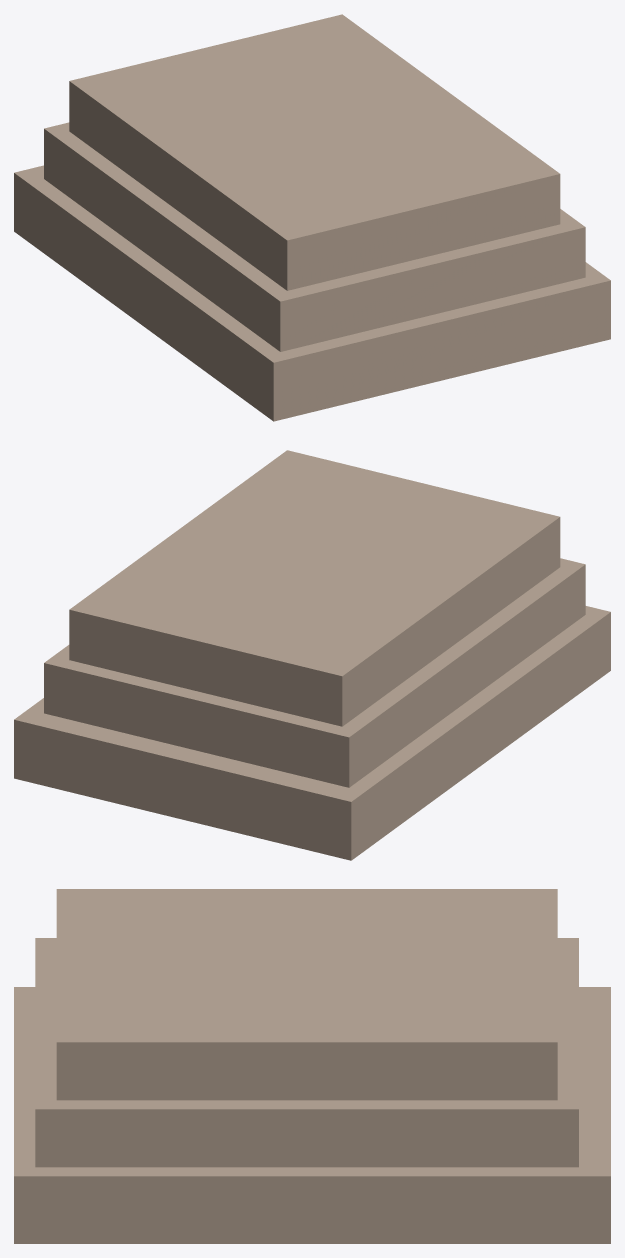
The model's file is books-stack.glb.
The picture shows the model from 3 angles, top to bottom: view 1: azimuth 30°, elevation 25°; view 2: azimuth 150°, elevation 25°; view 3: azimuth 270°, elevation 25°; orthographic projection. The views are drawn at different scales.
Parts seen in each view (by area): view 1: books-stack; view 2: books-stack; view 3: books-stack.
Boxes of the visible parts, bbox=[...] form: books-stack: bbox=[14, 14, 610, 421]; books-stack: bbox=[14, 450, 610, 860]; books-stack: bbox=[14, 889, 610, 1243].
Size of the model in its own units: 0.21 by 0.095 by 0.28.
